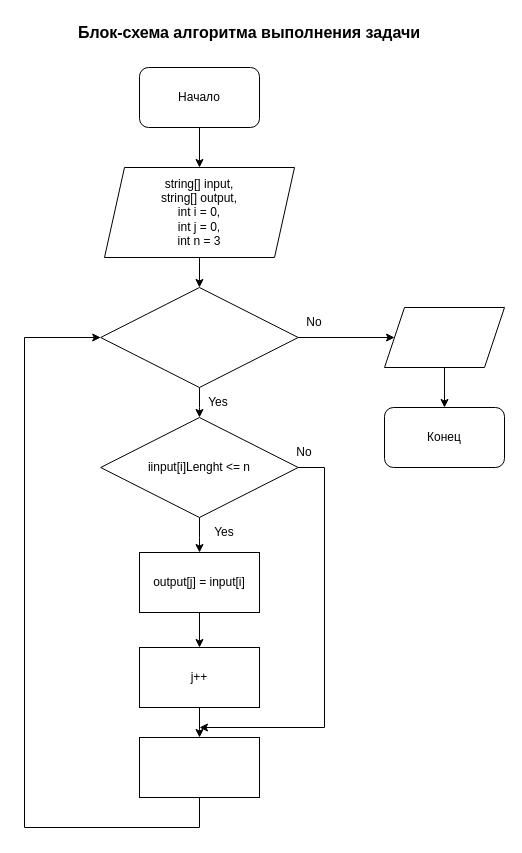
This 522x853 diagram has some shape labels left out. Here are the shapes that lost their labels. From the top down, the centre of each, then its label:
the point at 199,337: i < input.Lenght
the point at 444,337: output
the point at 199,767: i++
